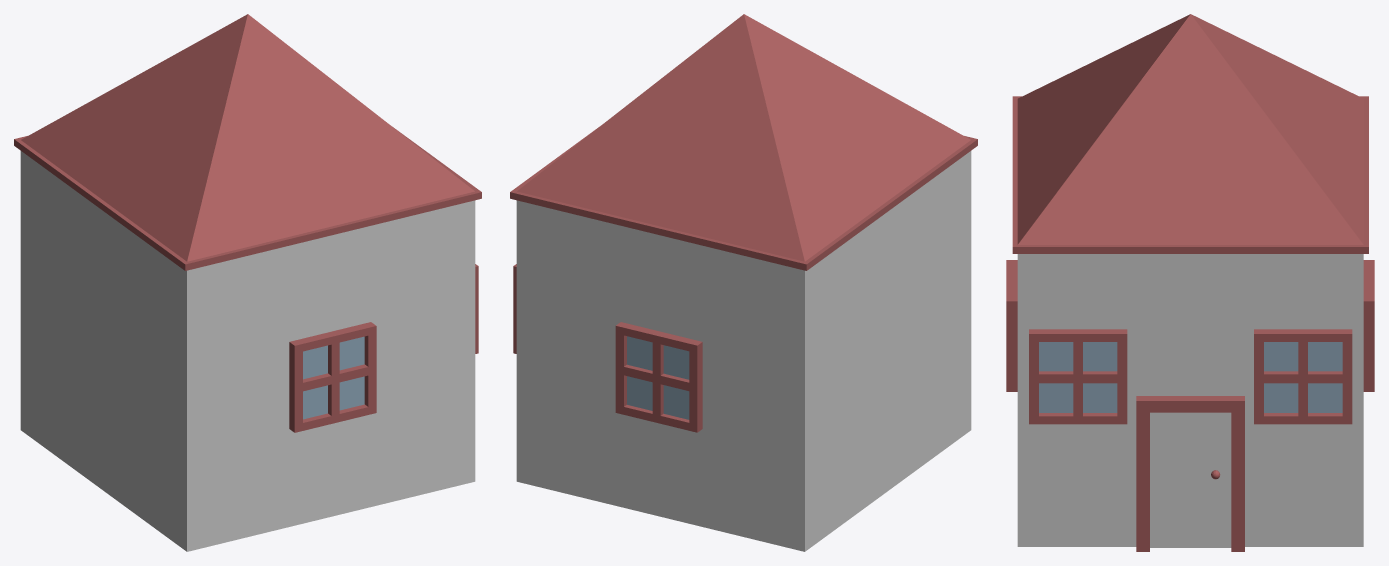
Rendered from house_model01.fbx.
The picture shows the model from 3 angles, left to right: view 1: azimuth 30°, elevation 25°; view 2: azimuth 150°, elevation 25°; view 3: azimuth 270°, elevation 25°; orthographic projection. The views are drawn at different scales.
Parts seen in each view (by area): view 1: house; view 2: house; view 3: house.
Part boxes in pixels (box(x1,y1,x2,y2)): house: box(14, 14, 481, 551); house: box(510, 14, 977, 551); house: box(1006, 14, 1374, 551).
Size of the model in its own units: 20.98 by 29.31 by 21.27.
